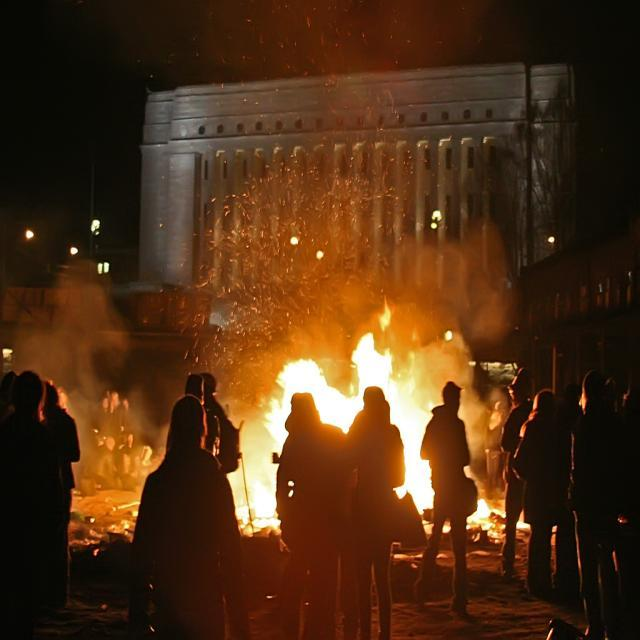Fire: (324, 390, 358, 428), (361, 358, 399, 386), (288, 365, 322, 394), (408, 457, 428, 502)
